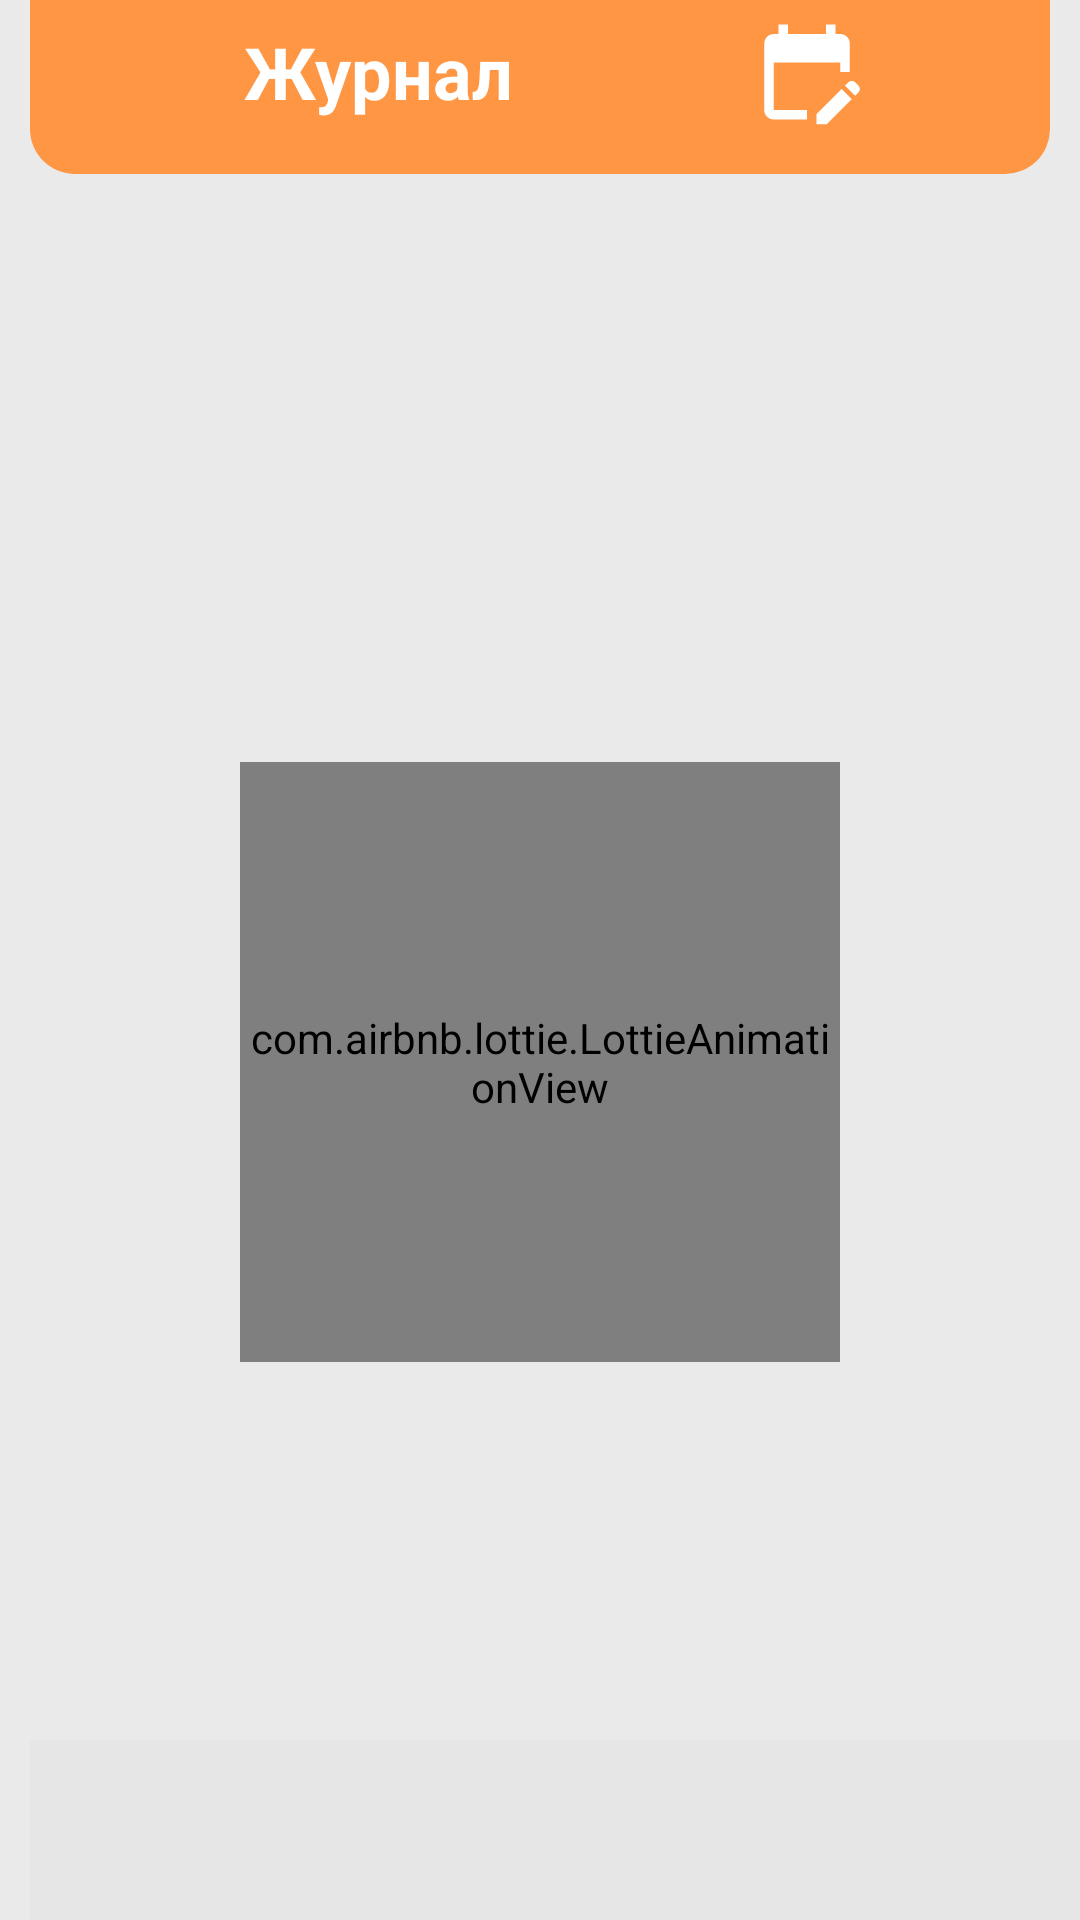

Named icons in this screenshot (1080 x 1920) and their bounding boxes, (x1, y1, x2, y2):
calendar: (764, 24, 860, 125)
